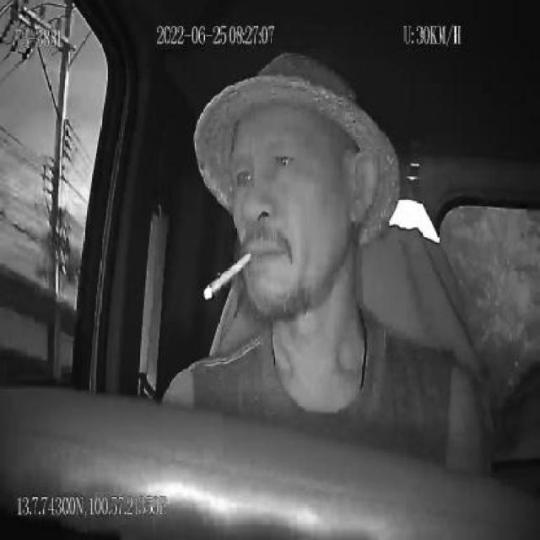smoking: (204, 250, 252, 303)
